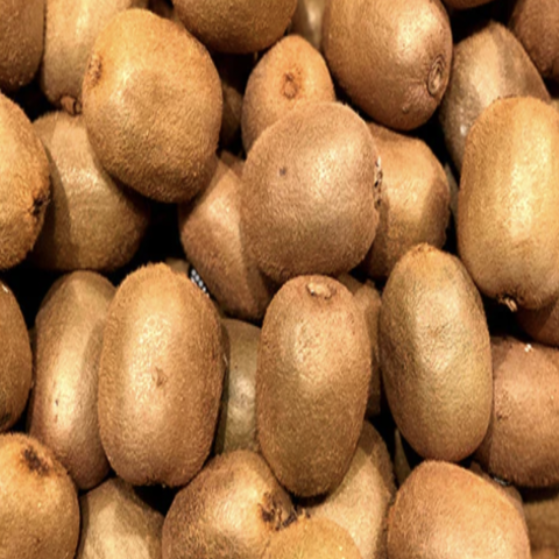kiwi: (236, 94, 413, 290), (70, 4, 229, 218), (94, 257, 232, 503), (362, 234, 516, 454), (252, 264, 377, 510), (445, 86, 559, 301)
